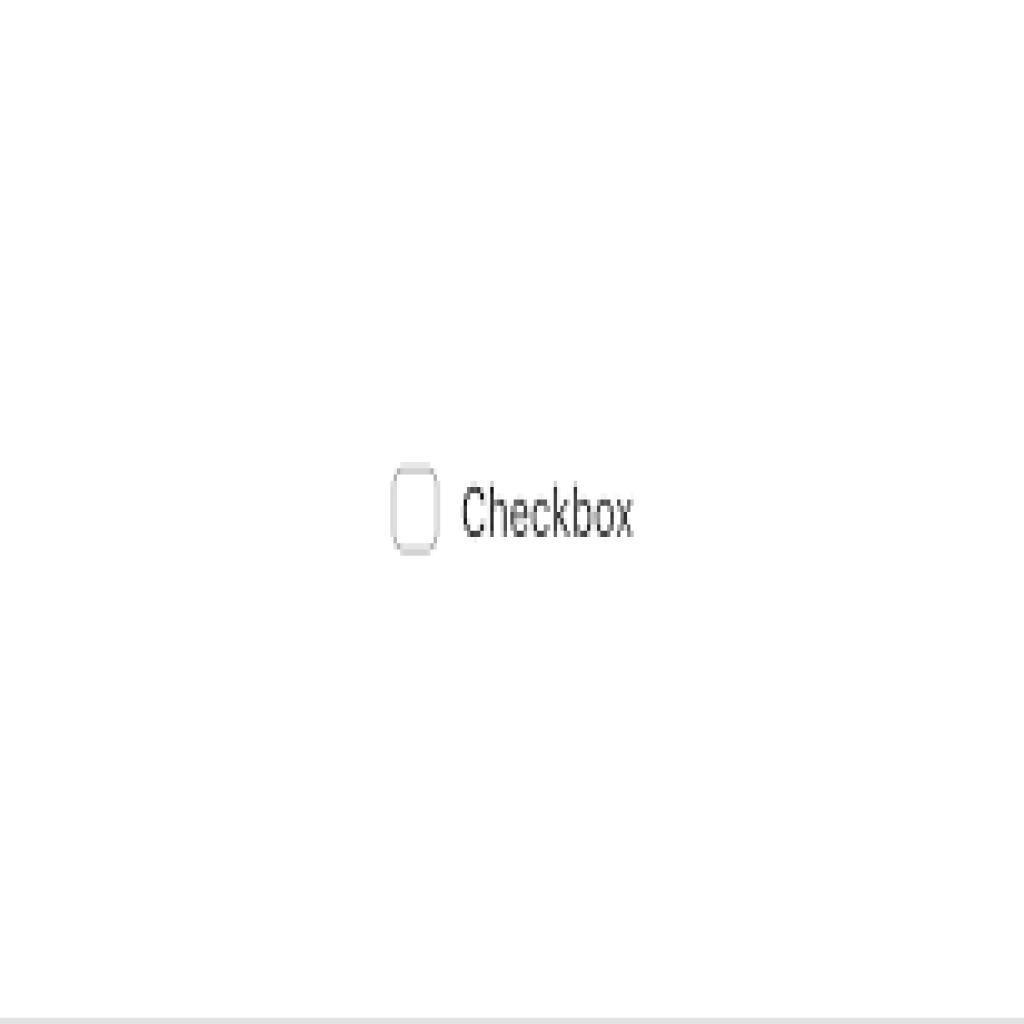checkbox: (395, 467, 439, 548)
label: (457, 480, 634, 545)
